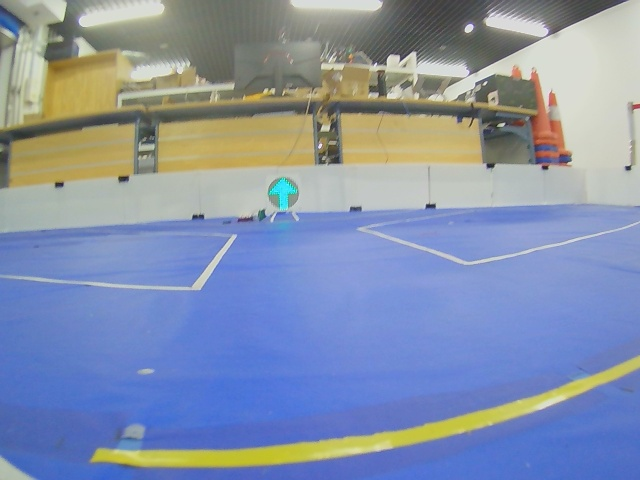straight_green: (268, 177, 299, 211)
